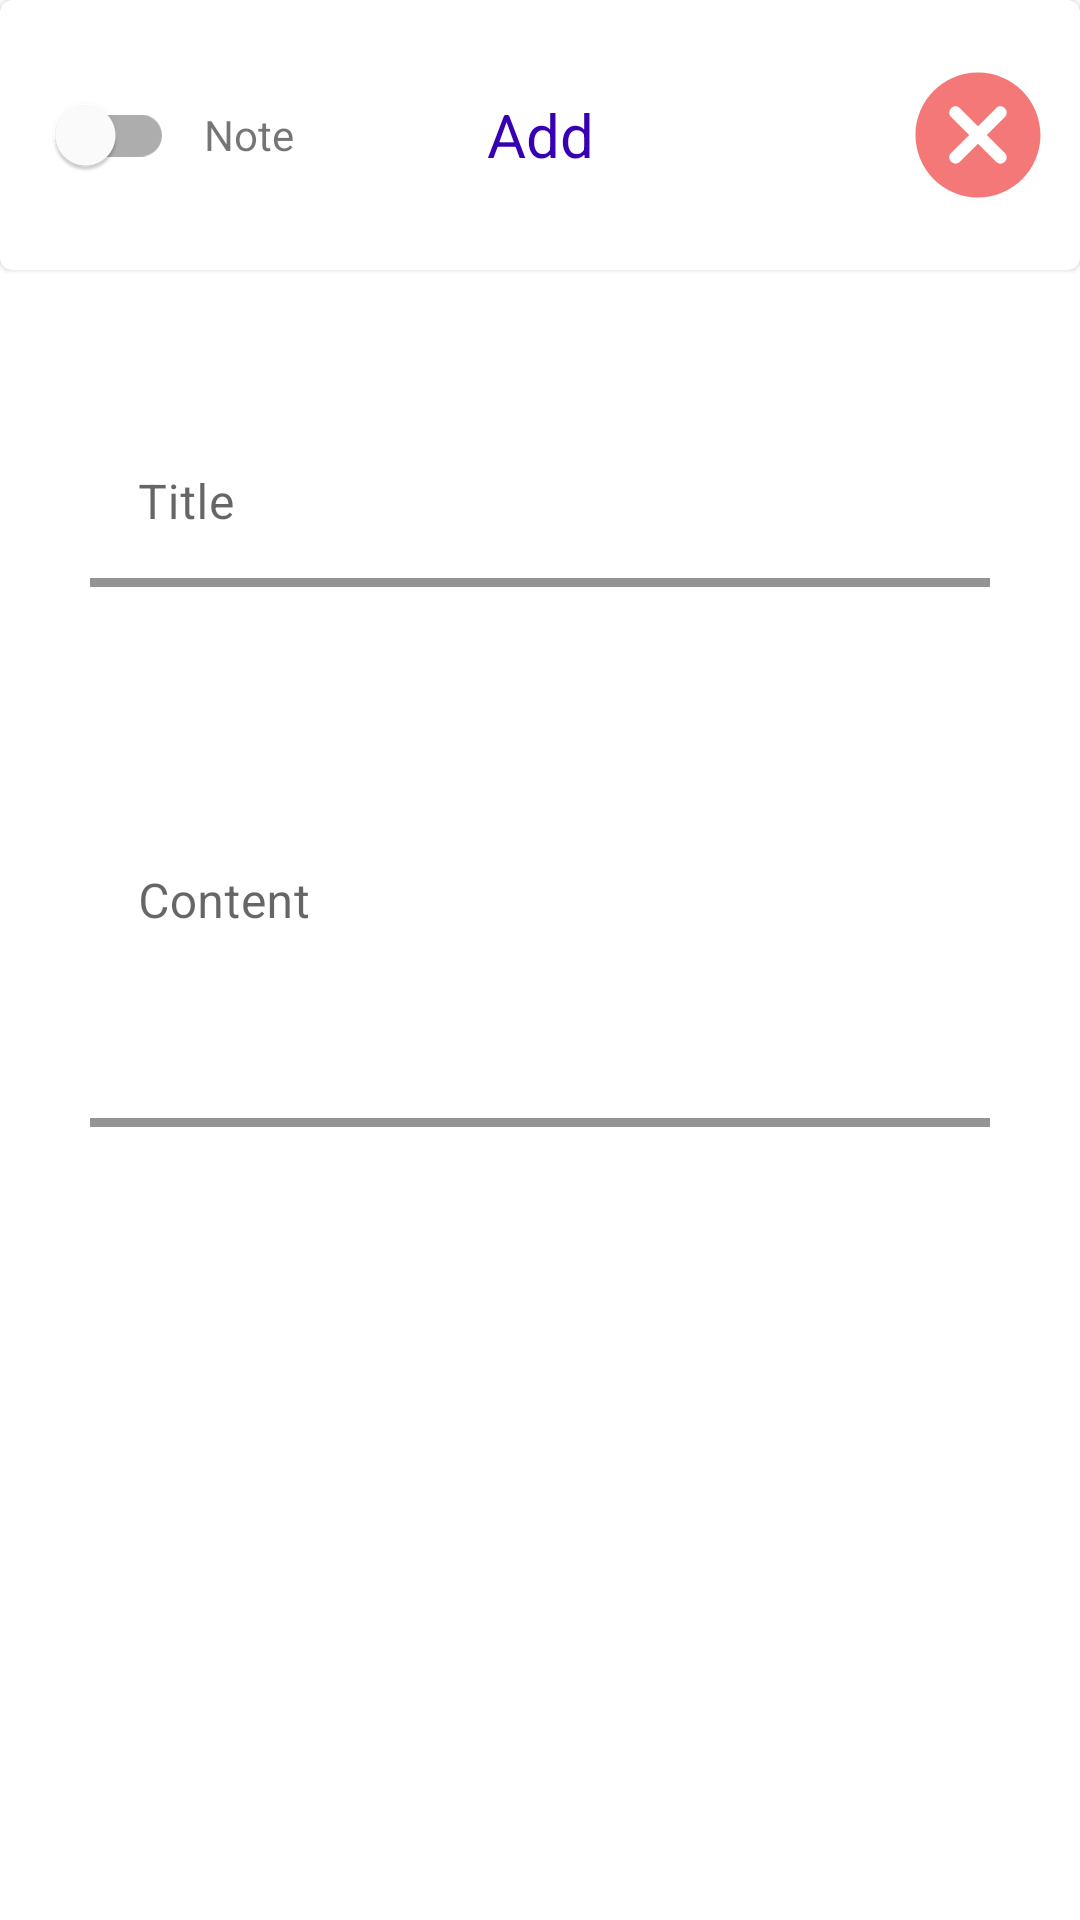

Icons on this 1080 × 1920 Android screen, each with its box as (x1, y1, x2, y2):
cancel: (915, 72, 1041, 198)
